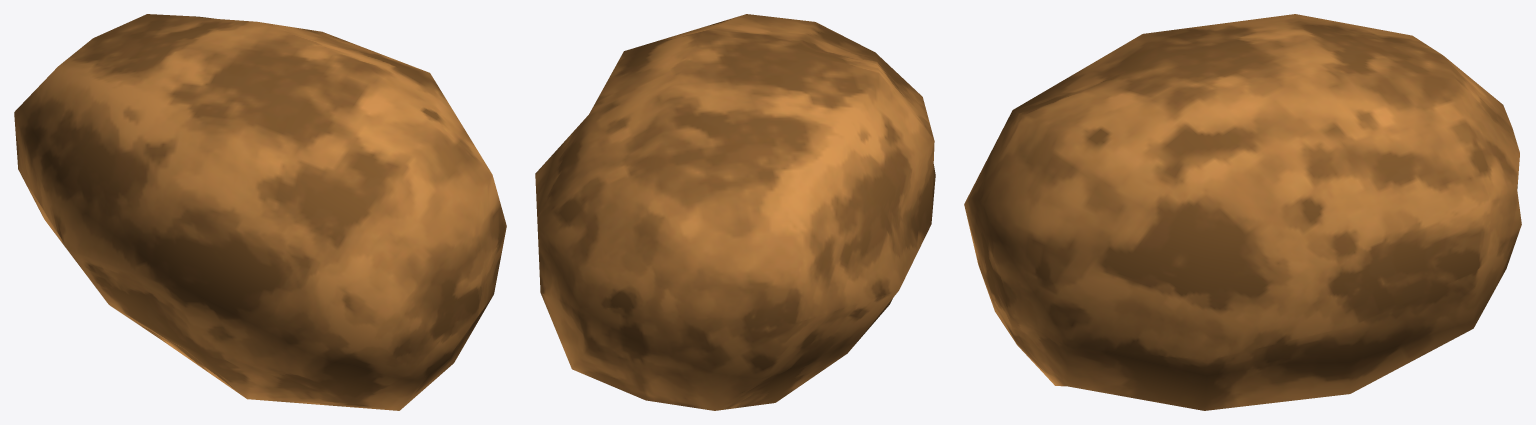
Rendered from Potato_01.fbx.
3 views of the same model, side by side, from view 1: azimuth 30°, elevation 25°; view 2: azimuth 150°, elevation 25°; view 3: azimuth 270°, elevation 25° (orthographic). The views are drawn at different scales.
Parts seen in each view (by area): view 1: Potato_01; view 2: Potato_01; view 3: Potato_01.
Part boxes in pixels (x1,y1,x2,y2): Potato_01: [14, 14, 506, 410]; Potato_01: [535, 14, 935, 410]; Potato_01: [964, 14, 1521, 410].
Bounding box in the file's own units: 30.54 × 26.35 × 41.92.
